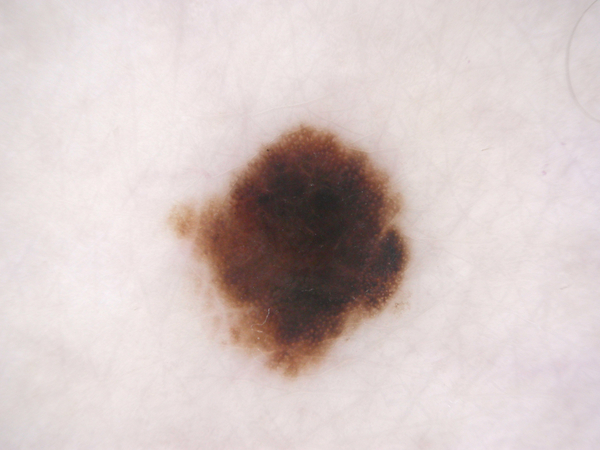Detected Lesion: (159, 116, 426, 387)
